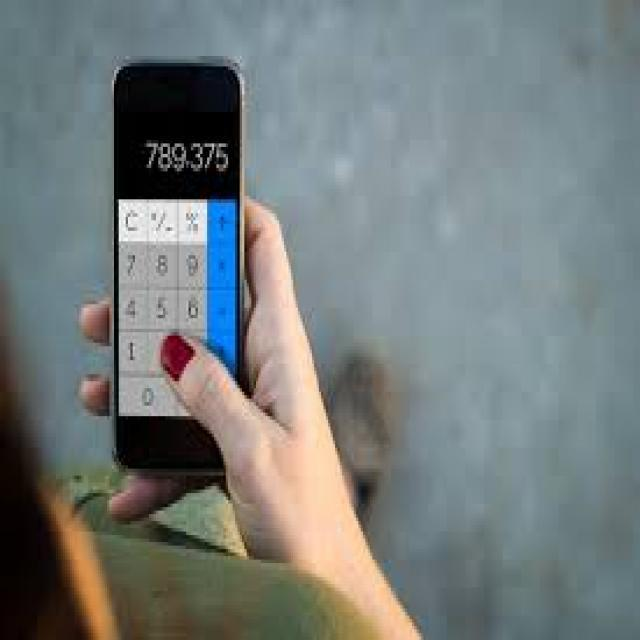Calculator: (110, 54, 246, 476)
